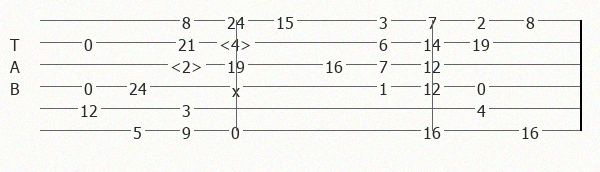0: (84, 34, 97, 50), (84, 78, 97, 94), (231, 122, 244, 138), (477, 78, 490, 94)
1: (379, 78, 392, 94)
12: (80, 100, 102, 116), (423, 56, 445, 72), (423, 78, 445, 94)
14: (423, 34, 445, 50)
15: (276, 12, 298, 28)
16: (325, 56, 347, 72), (423, 122, 445, 138), (521, 122, 543, 138)
19: (227, 56, 249, 72), (472, 34, 494, 50)
2: (477, 12, 490, 28)
21: (178, 34, 200, 50)
24: (129, 78, 151, 94), (227, 12, 249, 28)
3: (182, 100, 195, 116), (379, 12, 392, 28)
4: (477, 100, 490, 116)
5: (133, 122, 146, 138)
6: (379, 34, 392, 50)
7: (379, 56, 392, 72), (428, 12, 441, 28)
8: (182, 12, 195, 28), (526, 12, 539, 28)
9: (182, 122, 195, 138)
harmonic: (170, 56, 207, 72), (219, 34, 256, 50)
x: (232, 80, 244, 93)
